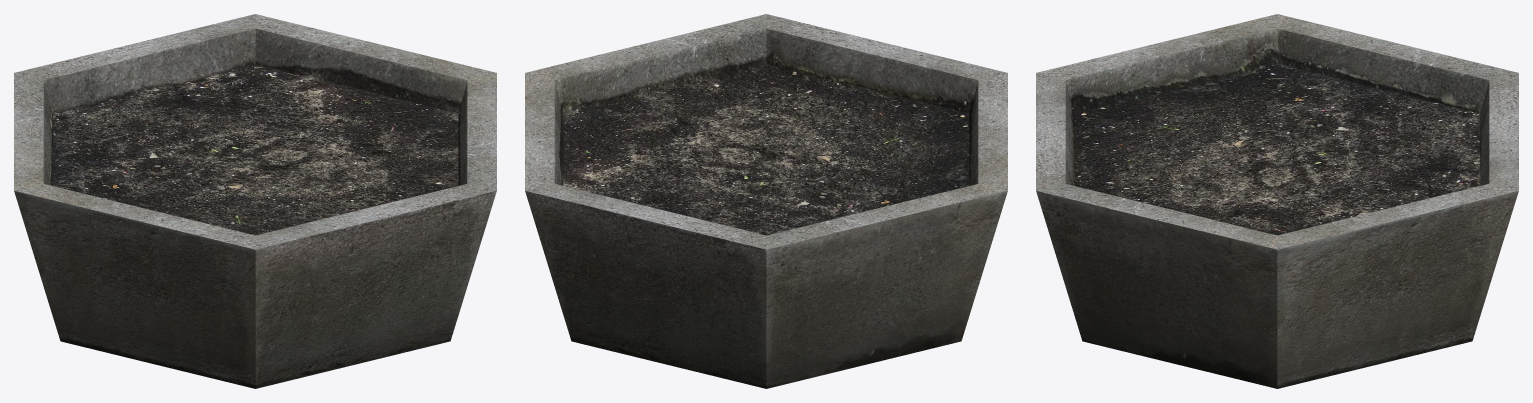
3 views of the same model, side by side, from view 1: azimuth 30°, elevation 25°; view 2: azimuth 150°, elevation 25°; view 3: azimuth 270°, elevation 25° (orthographic).
Parts seen in each view (by area): view 1: flowerpot1_flowerpot1_0; view 2: flowerpot1_flowerpot1_0; view 3: flowerpot1_flowerpot1_0.
Boxes of the visible parts, x1=… form: flowerpot1_flowerpot1_0: x1=14, y1=14, x2=496, y2=388; flowerpot1_flowerpot1_0: x1=525, y1=14, x2=1007, y2=388; flowerpot1_flowerpot1_0: x1=1036, y1=14, x2=1518, y2=388.
Size of the model in its own units: 128 by 40.91 by 111.
Materials: 1 (1 with a texture image).
